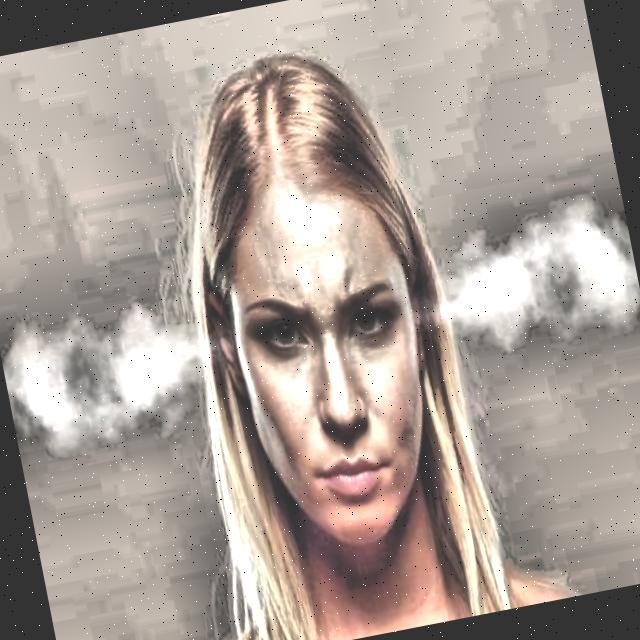angry: (140, 17, 507, 611)
